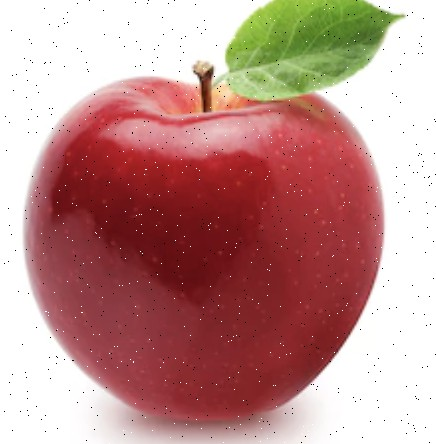fresh_apple: (21, 68, 385, 425)
